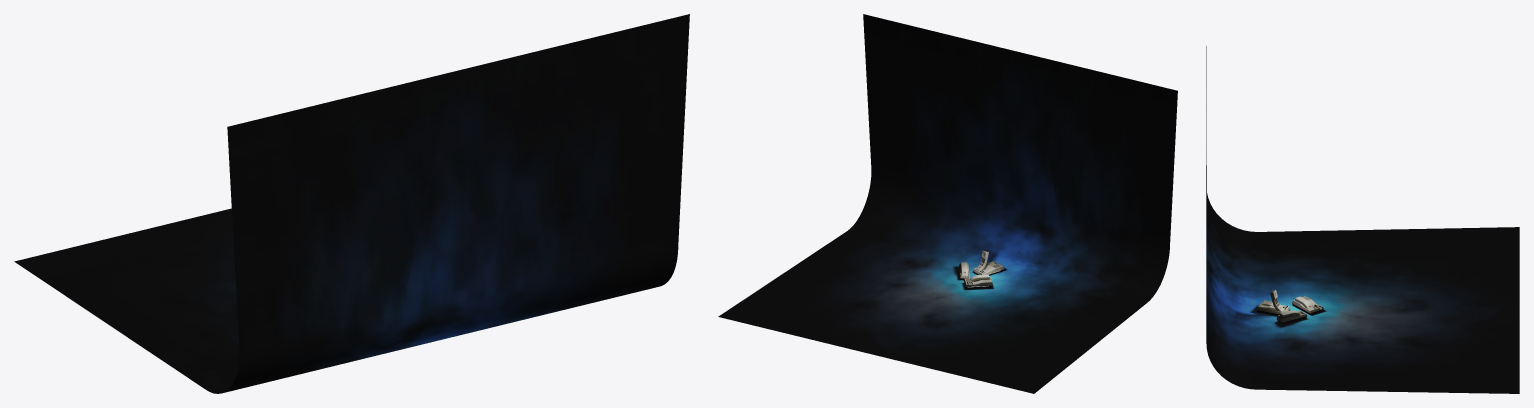
Rendered from phones.glb.
3 views of the same model, side by side, from view 1: azimuth 30°, elevation 25°; view 2: azimuth 150°, elevation 25°; view 3: azimuth 270°, elevation 25° (orthographic). The views are drawn at different scales.
Visible parts, largest first — view 1: background; view 2: background, phones; view 3: background, phones.
Boxes of the visible parts, x1,y1,x2,y2 form: background: (14,14,689,393); background: (718,14,1177,393); phones: (959,250,1003,286); background: (1206,46,1519,393); phones: (1256,289,1323,322).
Bounding box in the file's own units: 129 × 77.04 × 102.
8 materials, 4 textured.
